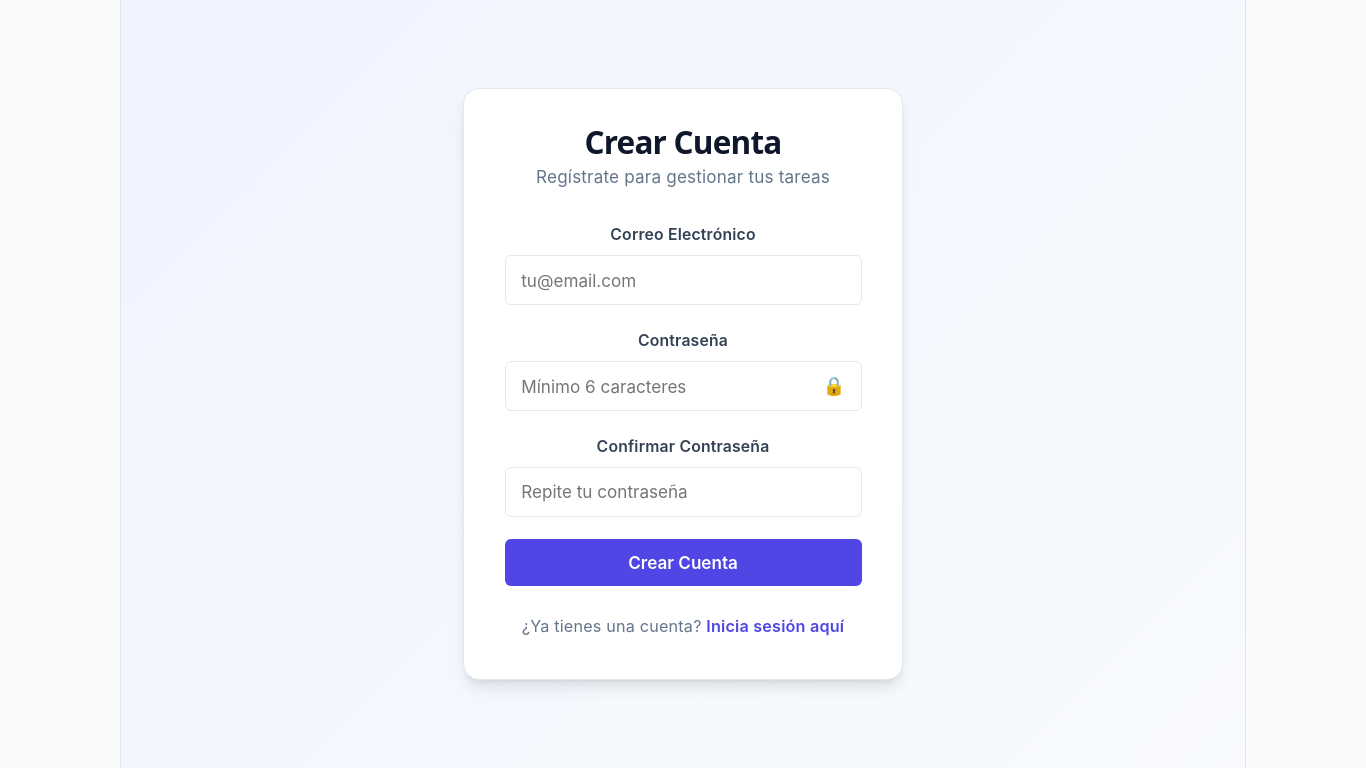
Register Page › muestra un error si las contraseñas tienen menos de 6 caracteres
The image size is (1366, 768).
Type "user@example.com" into the field labelled "Correo Electrónico" at x=683, y=280, box [504,255,862,305]
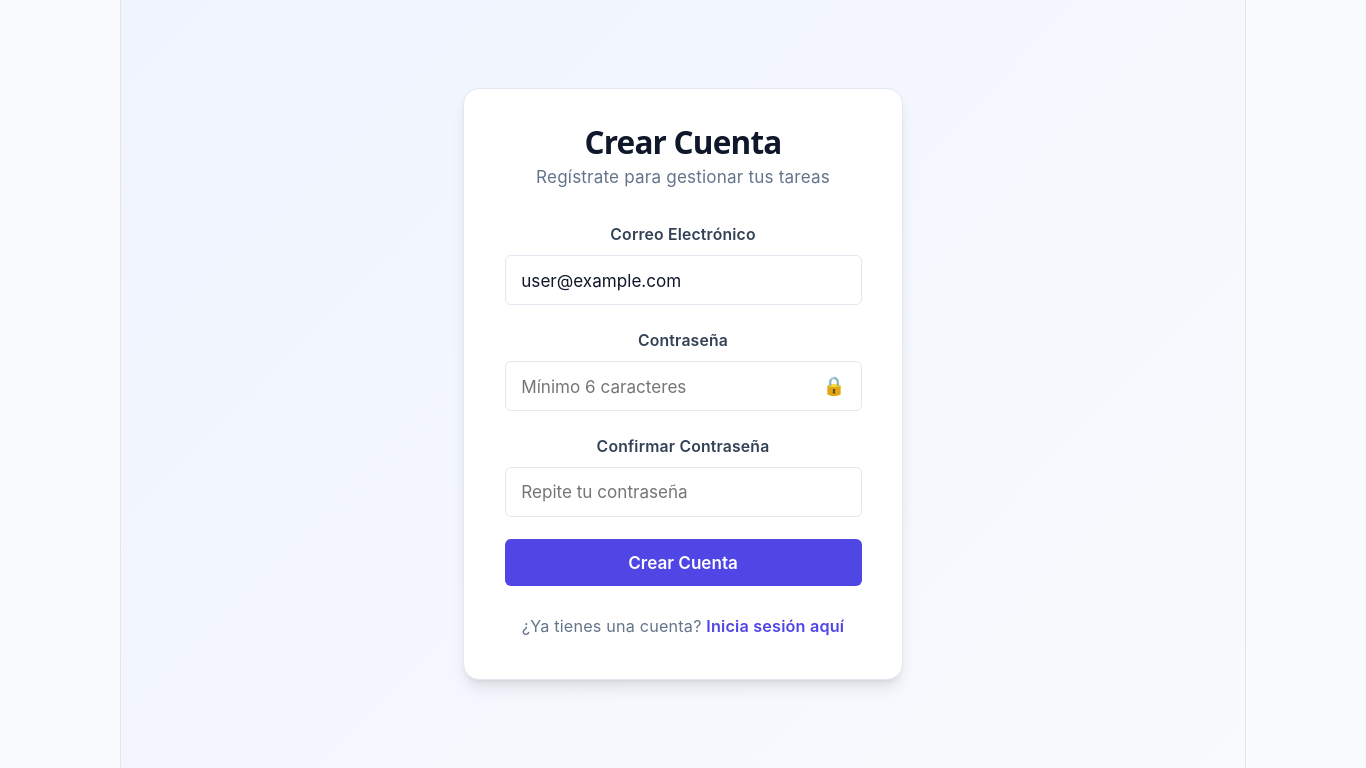
Type "123" into the password field labelled "Contraseña" at x=683, y=386, box [504,361,862,411]
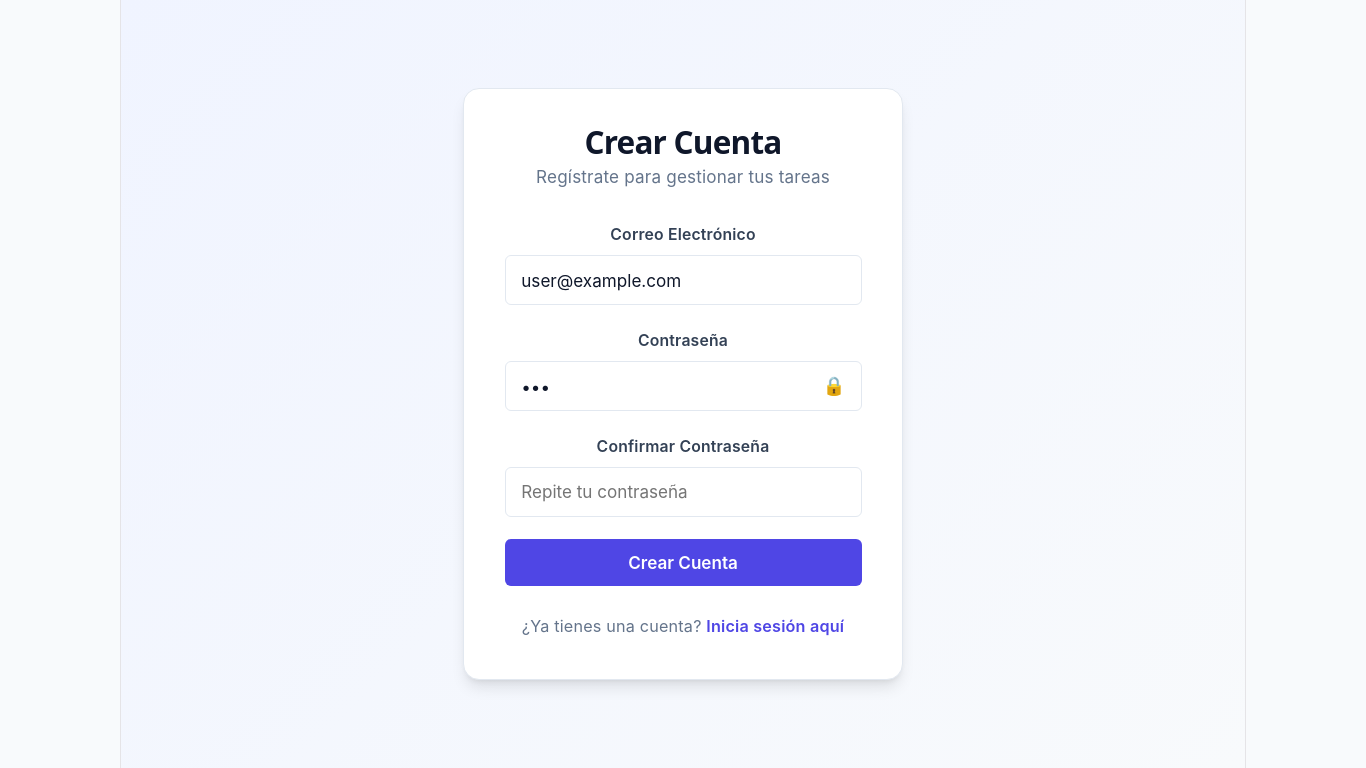
Type "123" into the password field labelled "Confirmar Contraseña" at x=683, y=492, box [504,467,862,517]
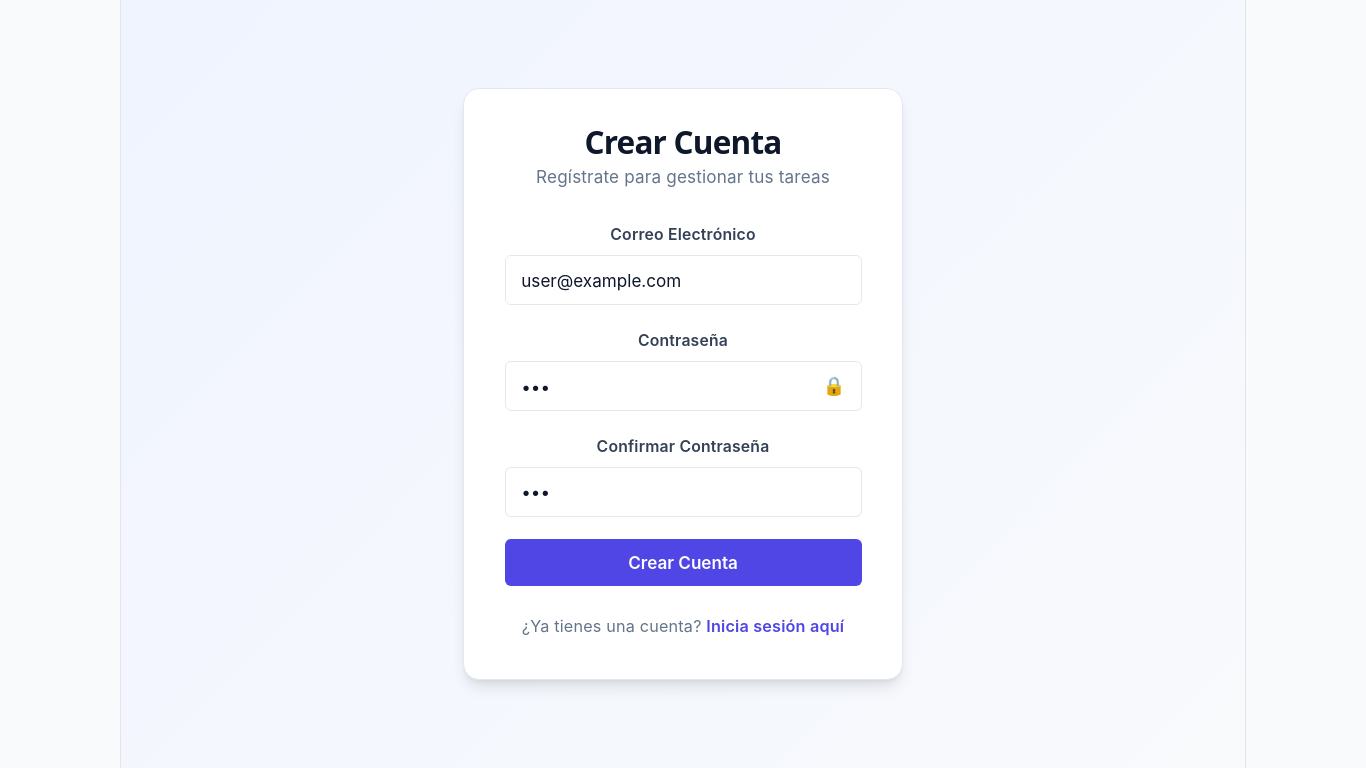
Click the button "Crear Cuenta" at x=683, y=562, box [504,539,862,586]
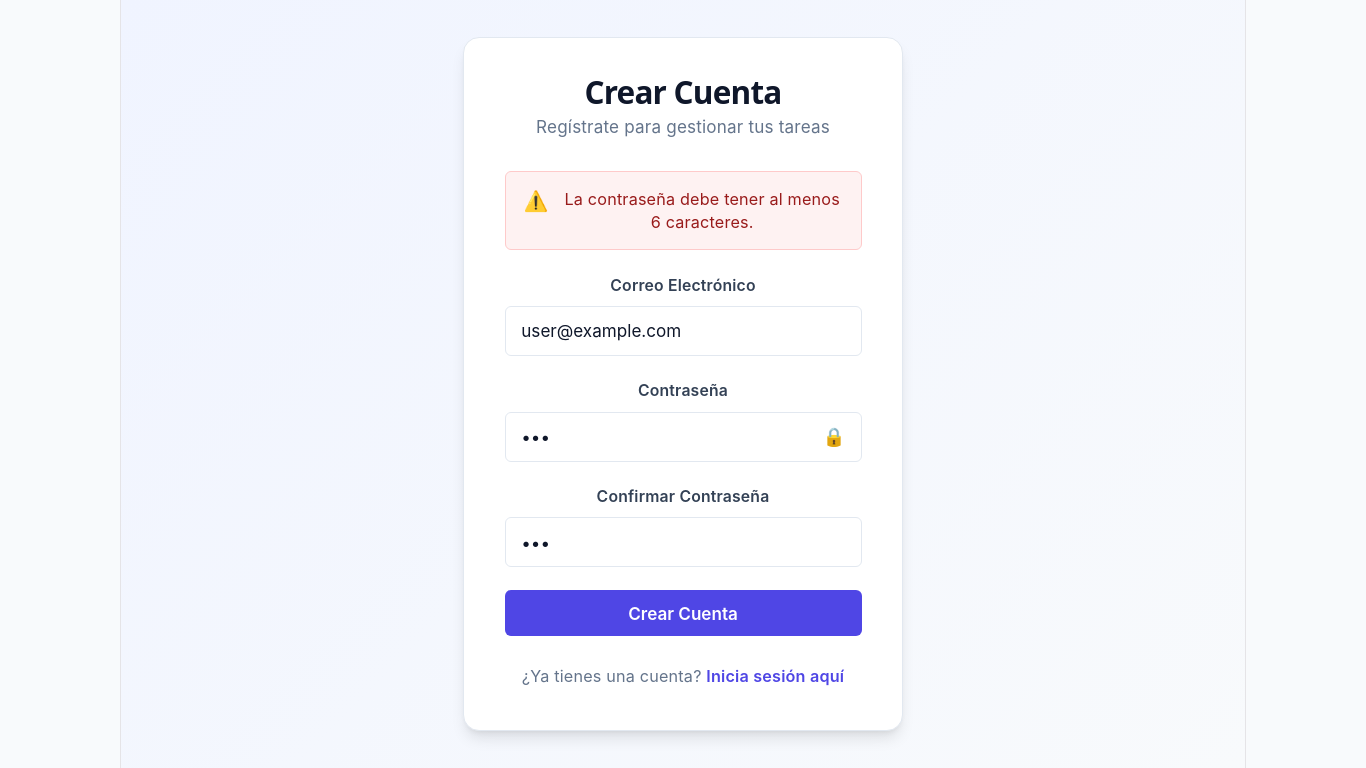
Expected: the message shows "La contraseña debe tener al menos 6 caracteres.", [564,189,840,232]
